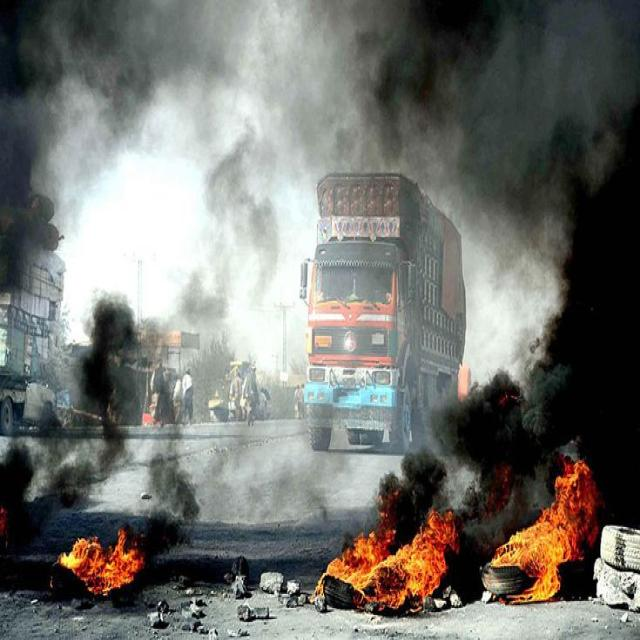fire: (327, 511, 457, 608), (555, 460, 596, 563), (59, 537, 105, 593), (106, 530, 143, 591), (506, 503, 555, 546), (492, 546, 554, 567)
